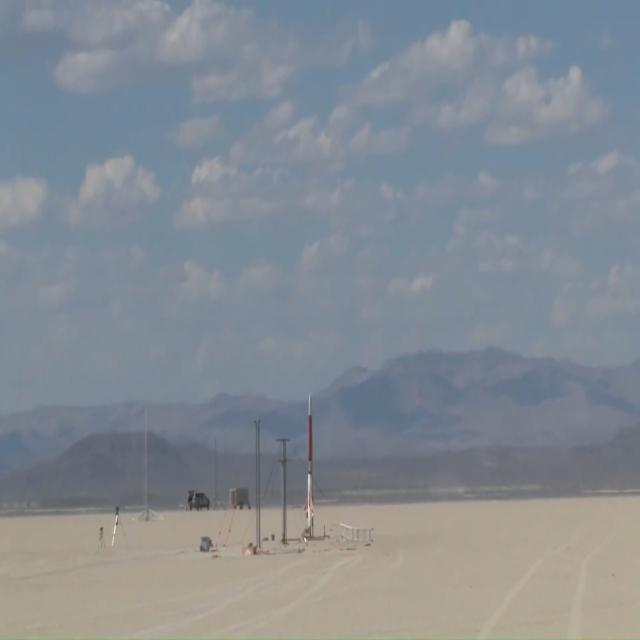Rocket: (304, 393, 314, 528)
